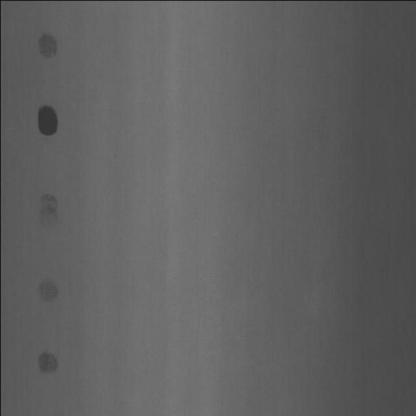oil_spot: (35, 192, 61, 233), (35, 270, 61, 305), (34, 101, 58, 138), (32, 346, 60, 376), (35, 29, 58, 62)
